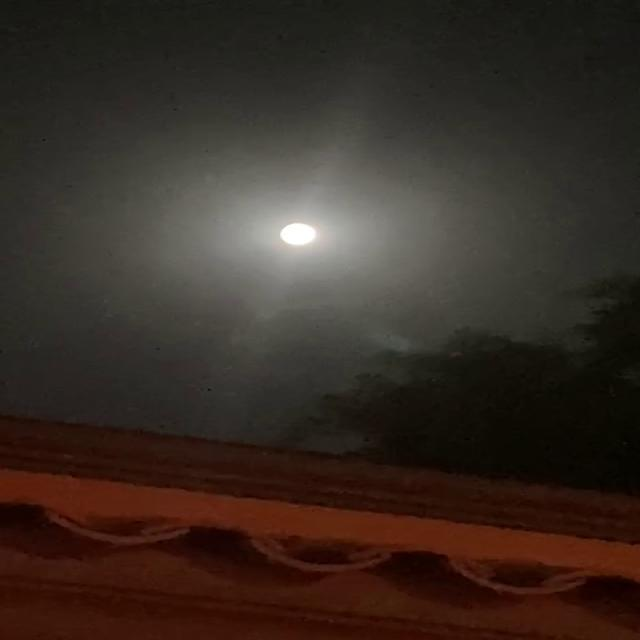moon: (256, 210, 315, 250)
